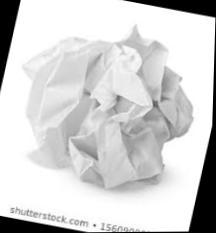paper: (0, 2, 211, 200)
